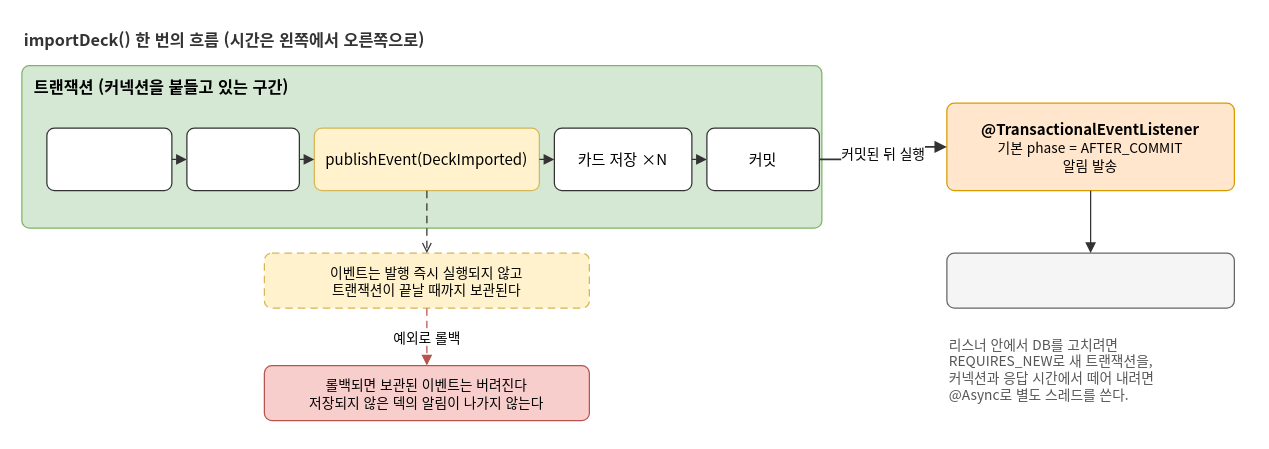
Some shapes in this 1269 by 449 pixel diagram are drawn without their labels. The centre of each missing label's shape, as x and y in pixels:
"덱 저장" goes at (242,159).
"커넥션 반납 리스너가 끝난 뒤에야 반납된다" goes at (1090,280).
"트랜잭션 시작" goes at (109,159).
